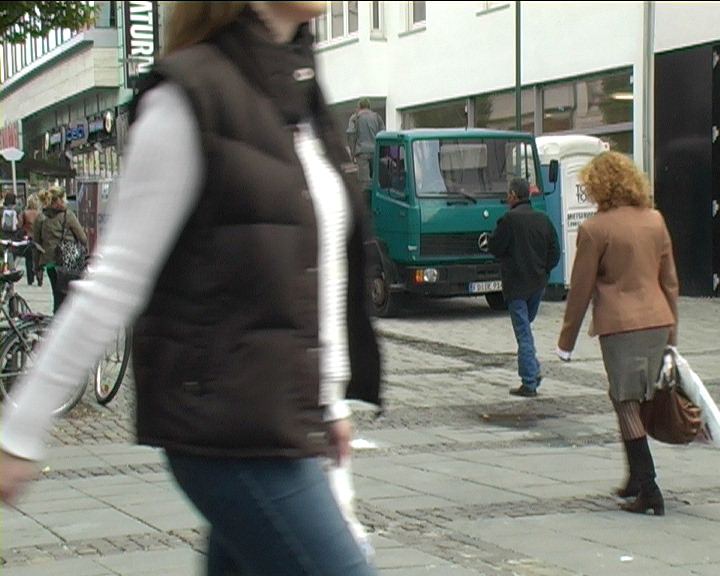undeflect: (577, 155, 674, 264), (498, 180, 556, 232)
